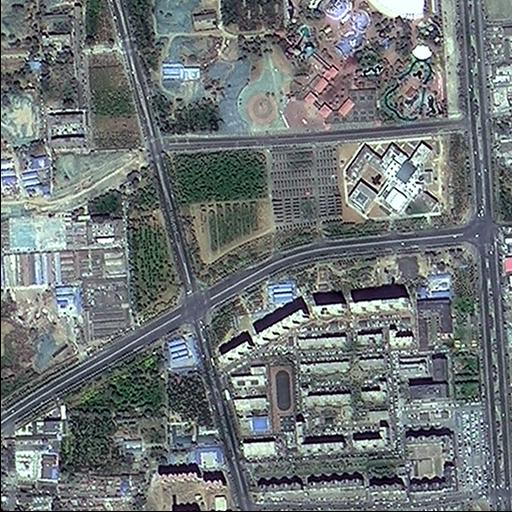school: (223, 356, 297, 439)
